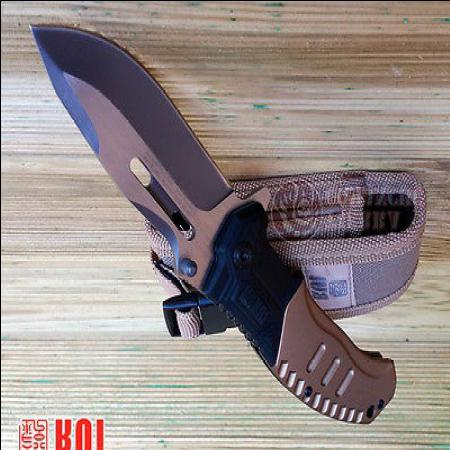long weapon: (19, 14, 239, 296)
